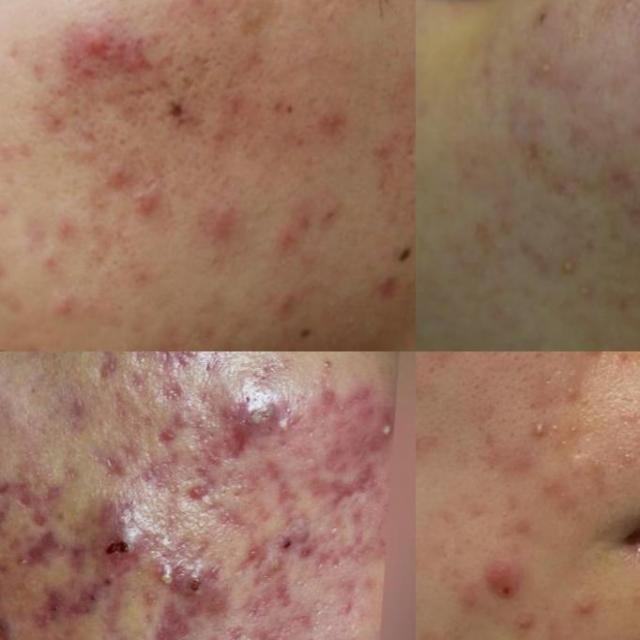8: (475, 536, 529, 615), (190, 198, 239, 252), (531, 472, 583, 518), (66, 26, 124, 65), (126, 179, 169, 231), (42, 288, 84, 335), (562, 587, 606, 630), (498, 603, 546, 640), (266, 218, 300, 253), (610, 438, 640, 469), (559, 378, 584, 406), (572, 351, 611, 365)
9: (349, 404, 405, 458), (309, 99, 348, 147)
blackheads: (210, 382, 286, 476), (77, 496, 146, 577), (144, 552, 229, 616), (295, 466, 386, 524), (11, 527, 64, 583), (155, 95, 212, 134), (114, 70, 164, 108), (79, 352, 131, 388), (147, 351, 185, 400), (237, 538, 273, 570), (616, 196, 640, 236), (0, 468, 23, 498), (0, 503, 8, 542)
